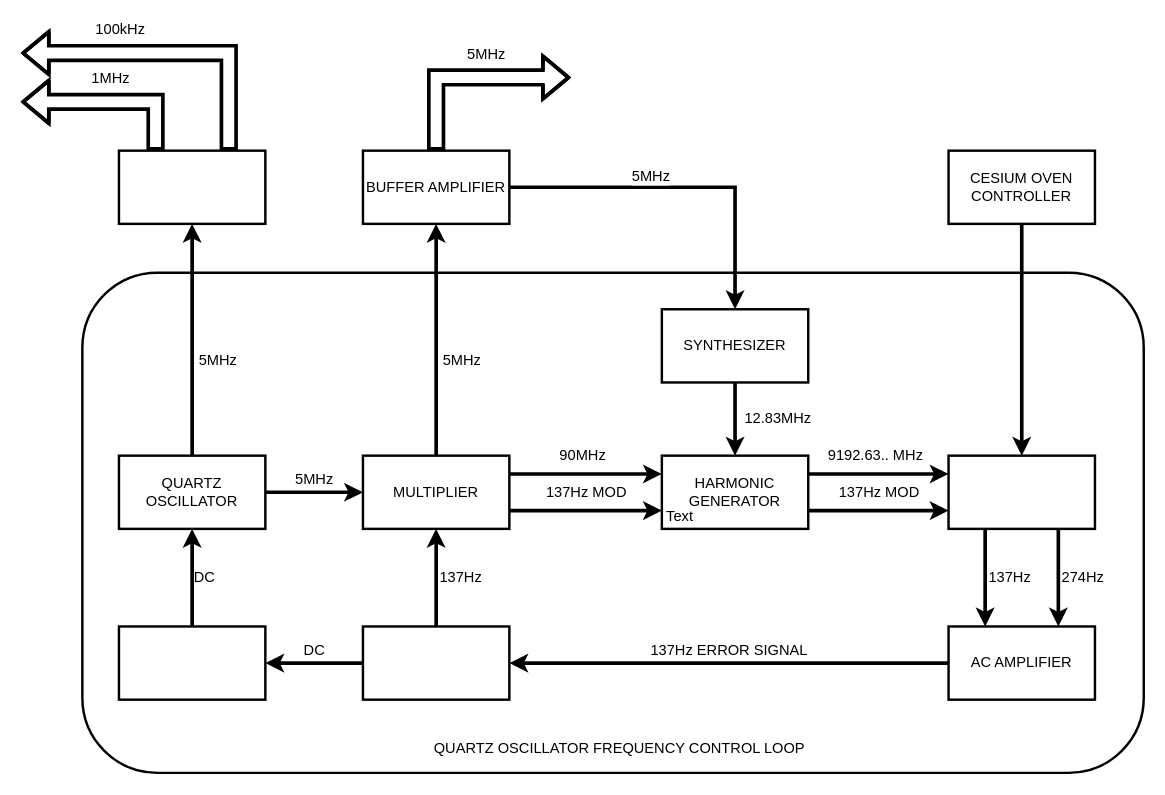
Image size: 1165x795. Some labels were removed from this diagram. The shapes that lost their labels are listed below. From the top down, each one's centre as x and y in pixels, then its label:
point (191, 186): FREQUENCY DIVIDER
point (1021, 491): CESIUM BEAM TUBE
point (191, 662): OPERATIONAL AMPLIFIER
point (435, 662): PHASE DETECTOR OSCILLATOR
